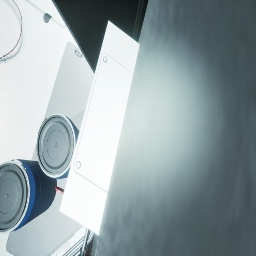SafetySwitchPanel ,: (55, 20, 140, 235)
